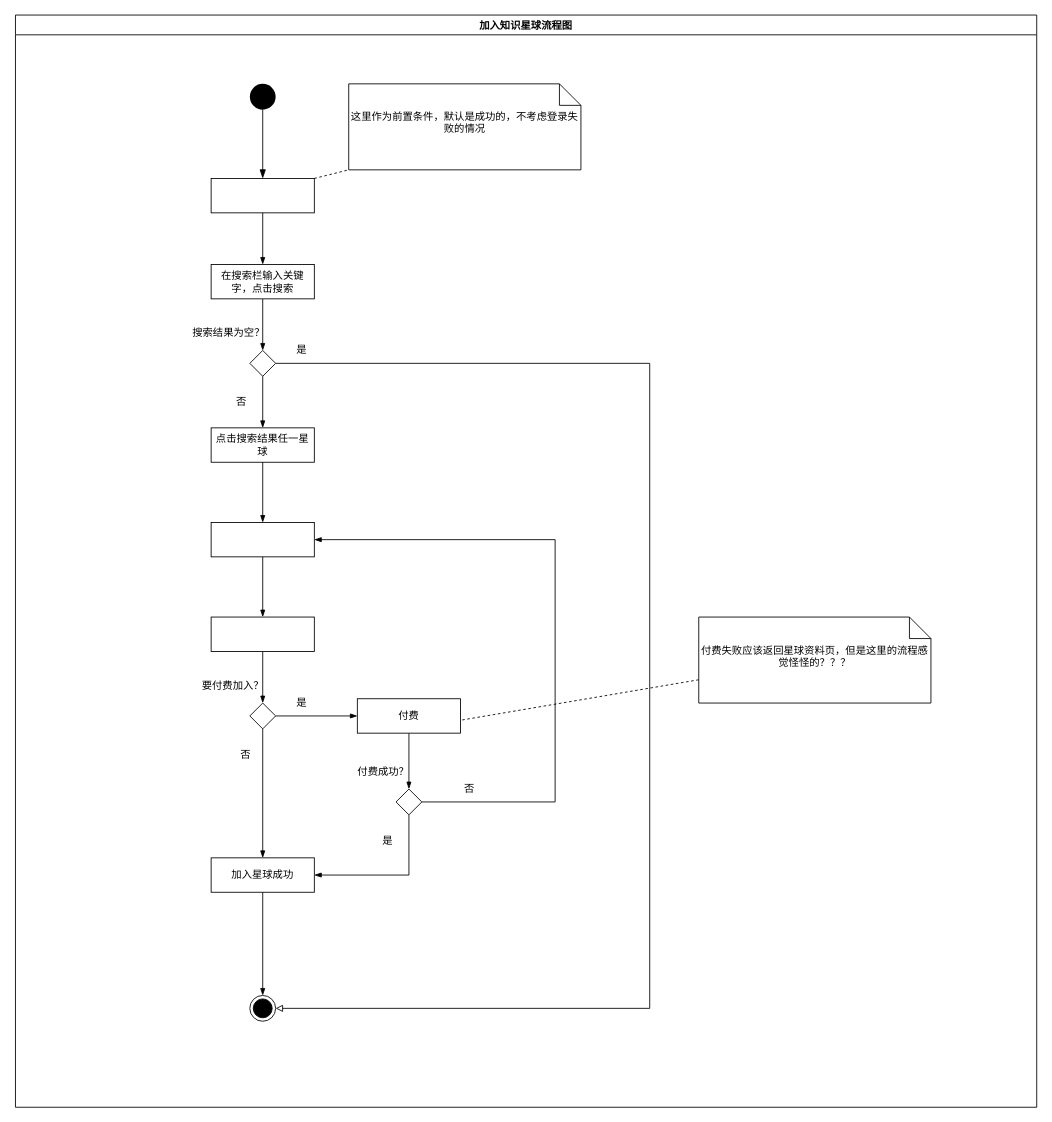
This 1052x1122 diagram has some shape labels left out. Here are the shapes that lost their labels. From the top down, the centre of each, then its label:
At point (262, 195): "登录知识星球App".
At point (262, 539): "展示星球资料页".
At point (262, 633): "点击加入按钮".
